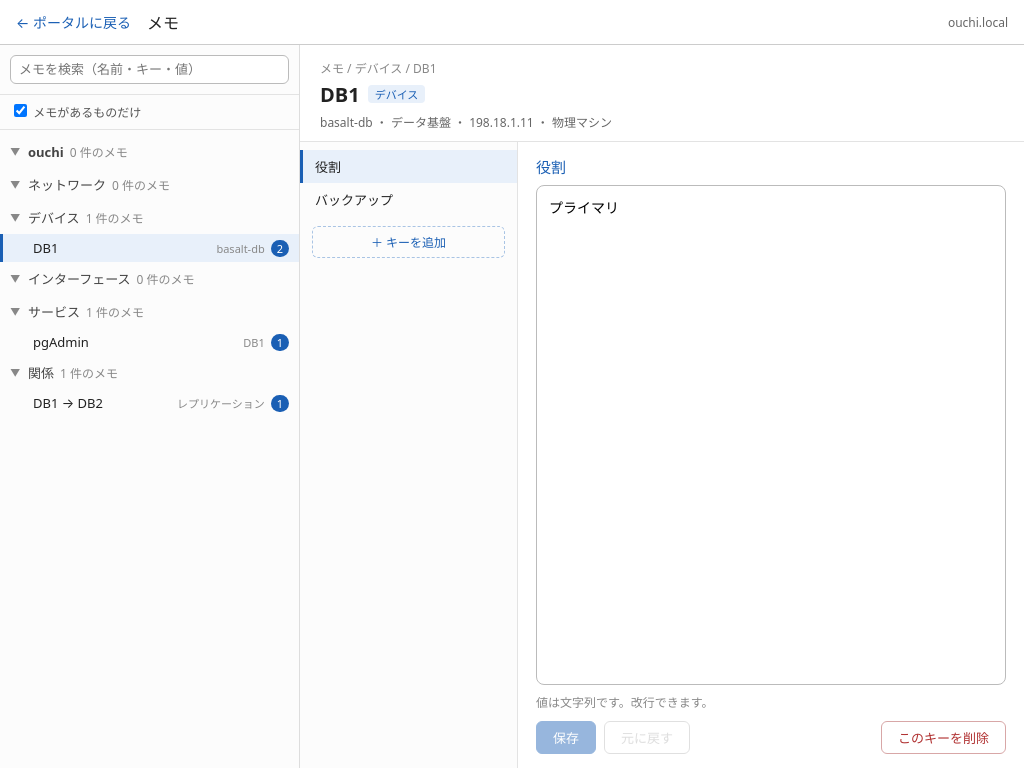
it: MemoView › 既定で最初のメモ対象とキーを選び、値をテキストボックスに出す
expect the element with class "ouchi-memo-key-name" is shown: met, box 300,150 -> 517,183
expect the text box named "役割の値" holds "プライマリ": met, box 536,185 -> 1006,685
Click the element with class "ouchi-memo-key-name". click: x=354, y=200
box: 315,191 -> 393,209
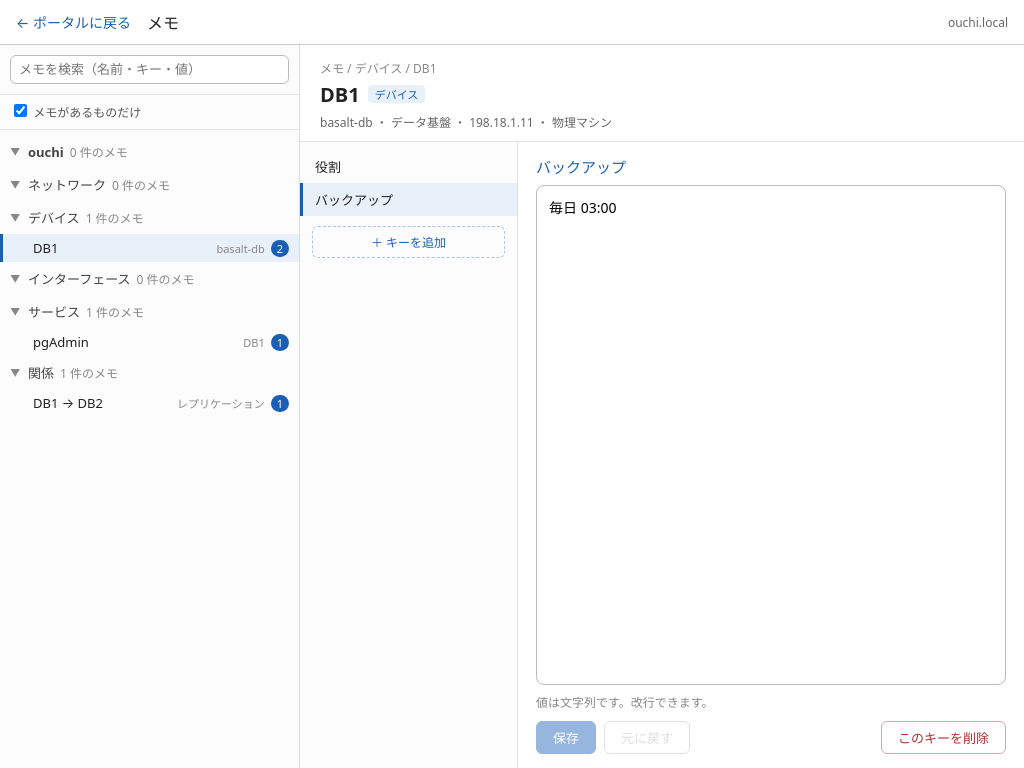
expect the text box named "バックアップの値" holds "毎日 03:00": met, box 536,185 -> 1006,685
